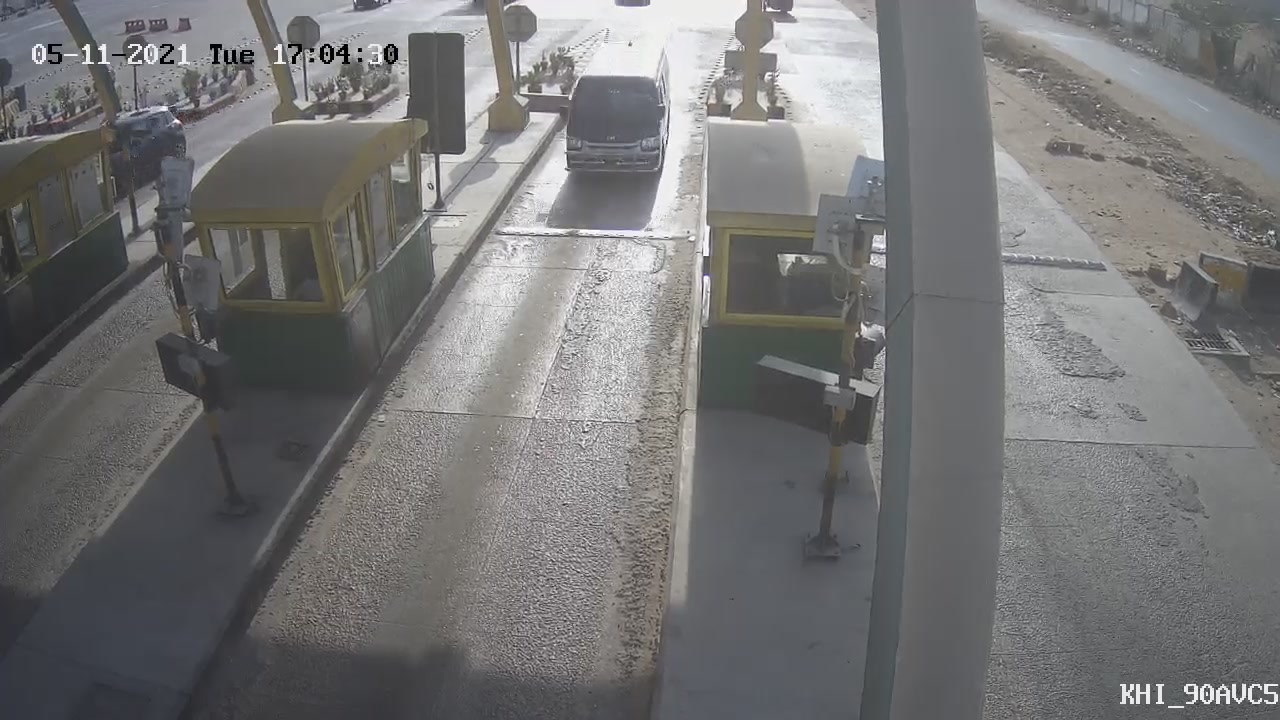F2: (539, 27, 690, 195)
